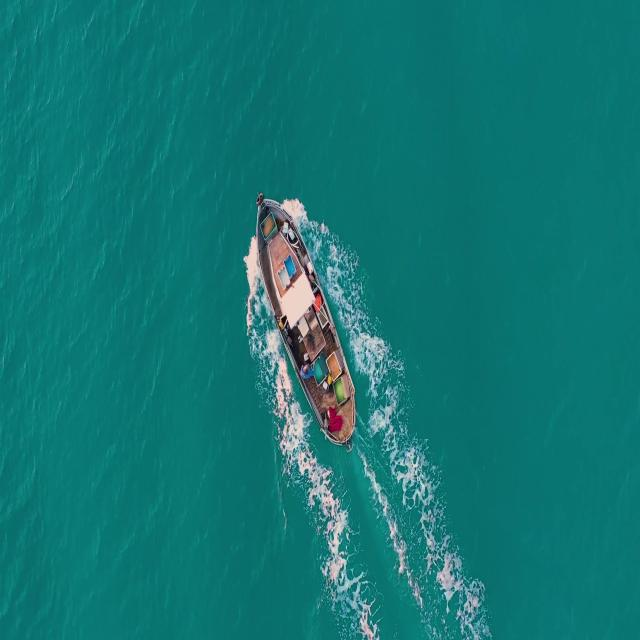ship: (254, 193, 359, 453)
